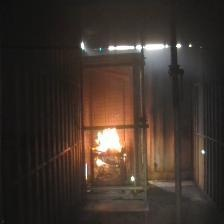fire: (91, 122, 122, 164)
